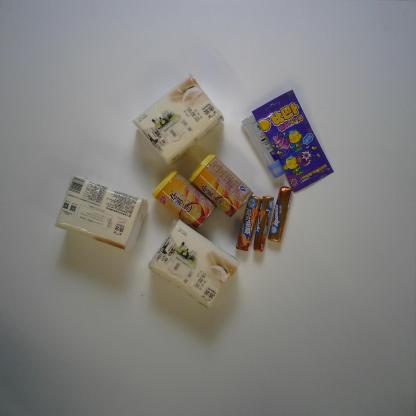Candy: (251, 89, 334, 193), (235, 195, 262, 252), (267, 186, 293, 243), (253, 196, 274, 252)
Canned Food: (188, 154, 254, 218), (151, 168, 217, 230)
Stationery: (241, 115, 286, 178)
Tissue: (132, 72, 224, 166), (147, 218, 241, 310), (53, 172, 150, 252)
